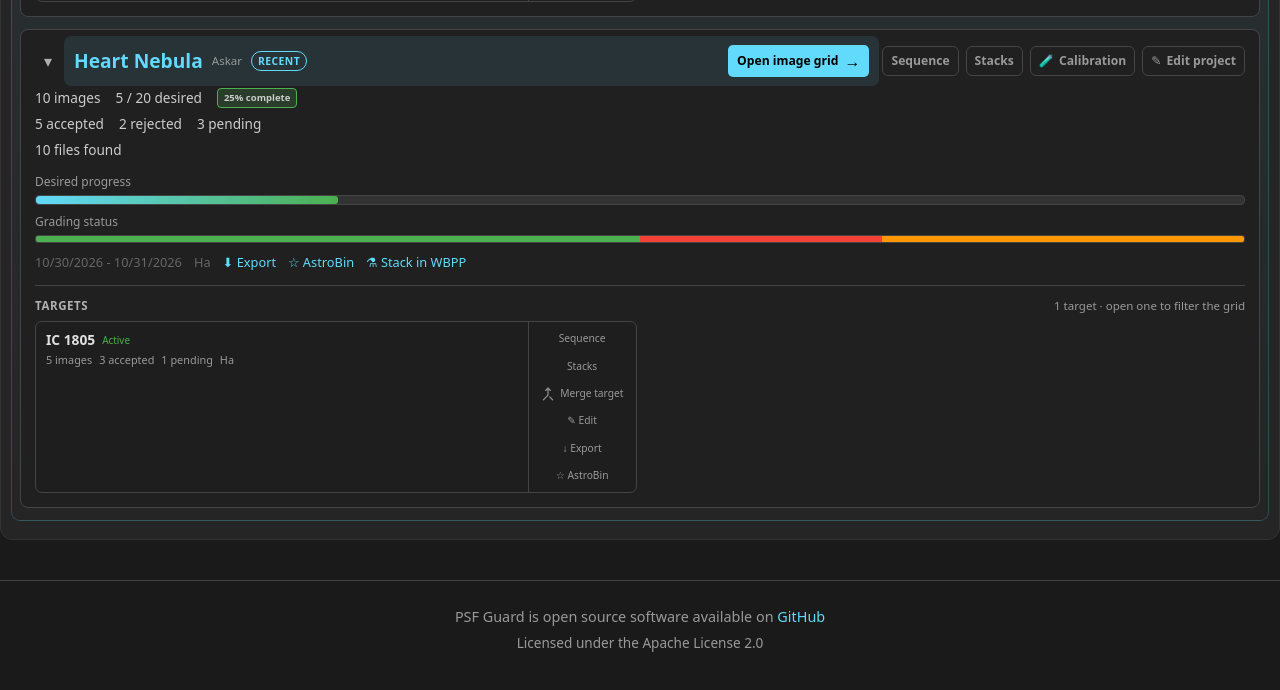
Test: Library target editing › saves a typed name before opening the move preview
(page scrolled)
Click the button with aria-label "Edit target IC 1805": (582, 421) [534,409,630,433]
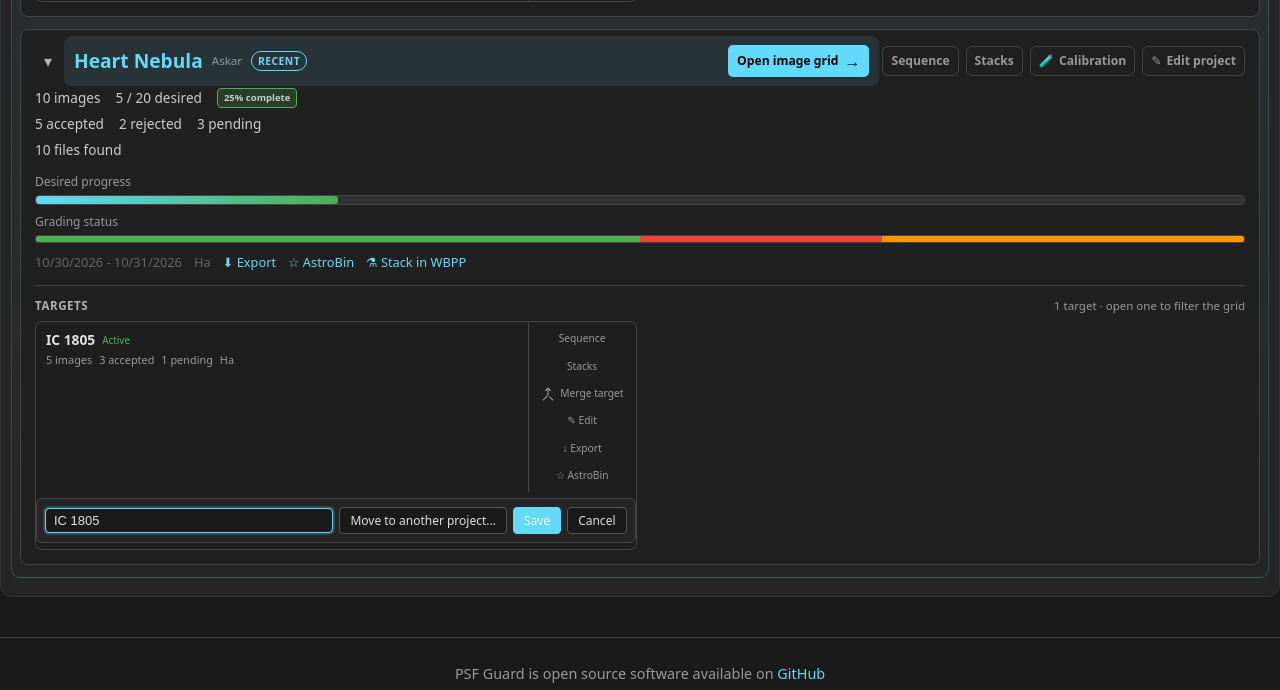
Replace the text in the field named "Target name" with "IC 1805 core": (189, 521) [45,508,333,533]
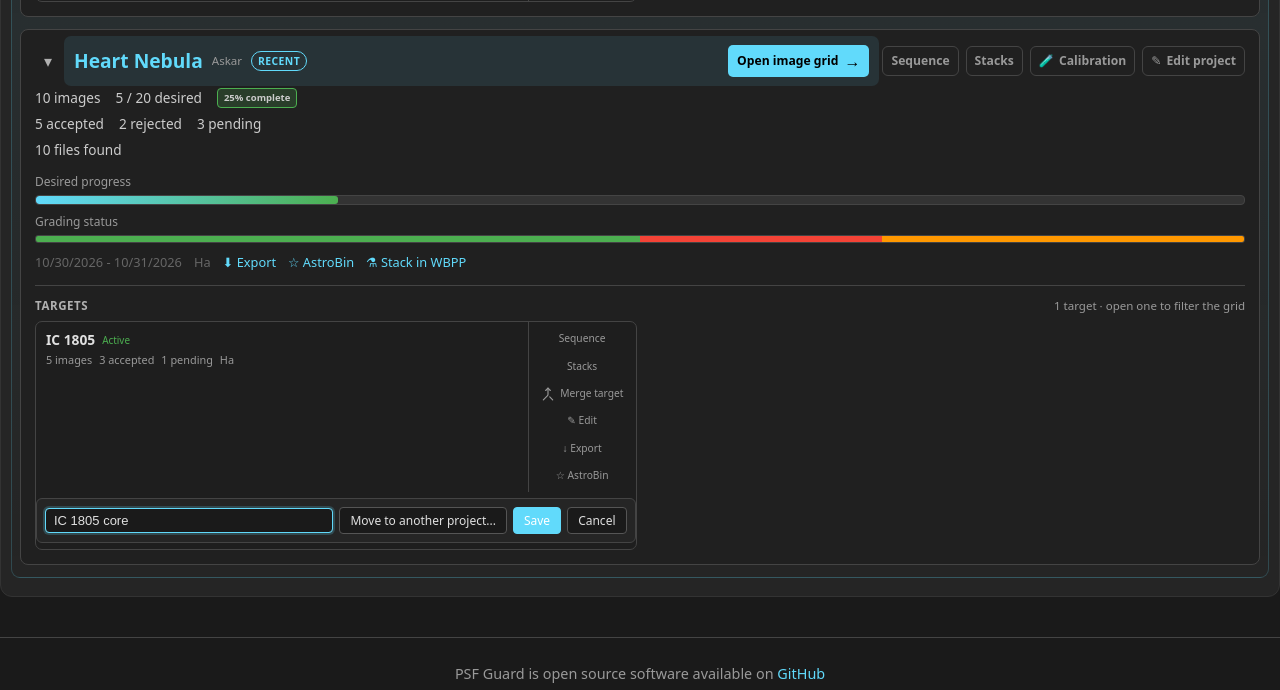
Click the button "Move to another project...": (423, 521) [339,507,507,534]
(page scrolled)
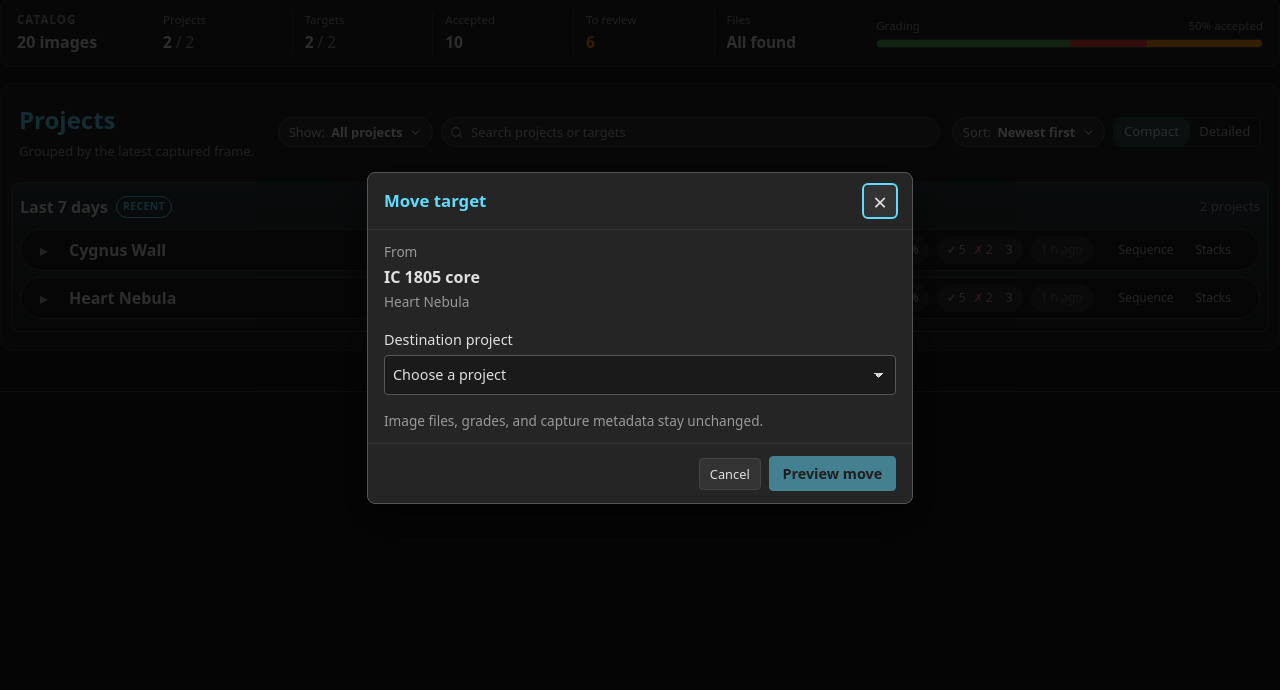
Expected: the text "IC 1805 core" is shown, [384,266,480,288]
